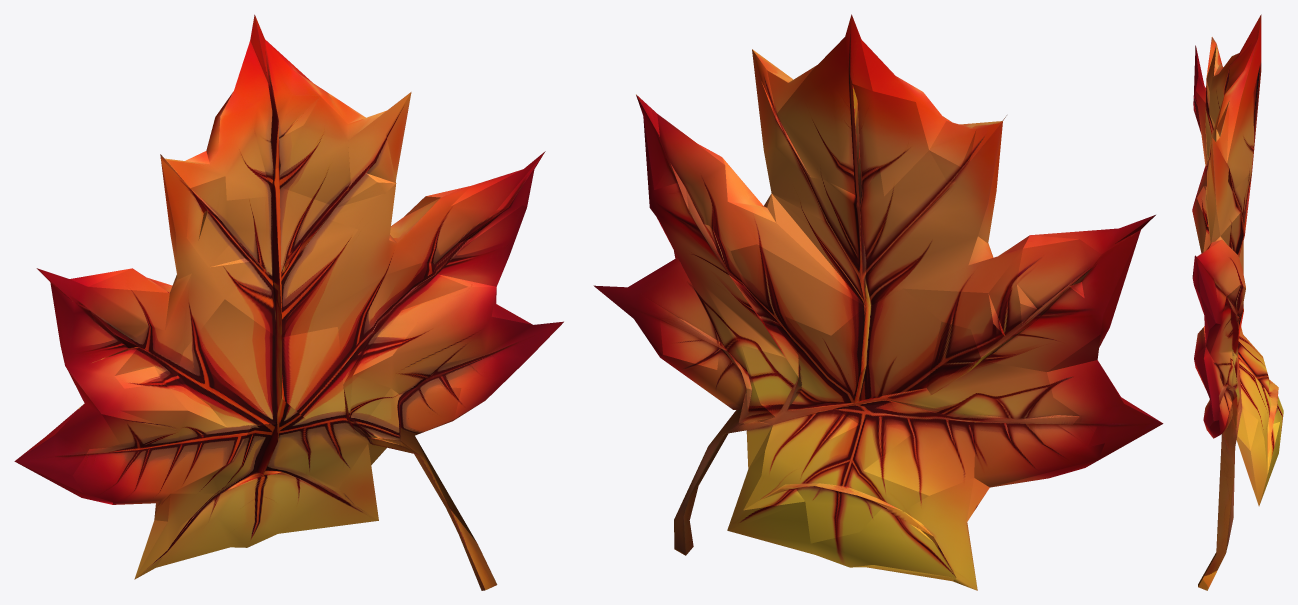
The model's file is leaf_a.glb.
The picture shows the model from 3 angles, left to right: view 1: azimuth 30°, elevation 25°; view 2: azimuth 150°, elevation 25°; view 3: azimuth 270°, elevation 25°; orthographic projection. The views are drawn at different scales.
Size of the model in its own units: 1.83 by 1.9 by 0.3172.
Materials: 1 (1 with a texture image).
